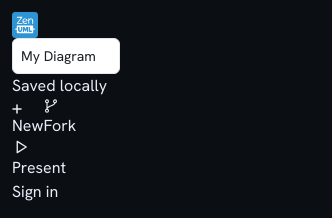
Test: AppHeader › pressing Escape reverts the title edit and does not commit
Clear the field with test id "header-title": (66, 56) [12,38,120,74]
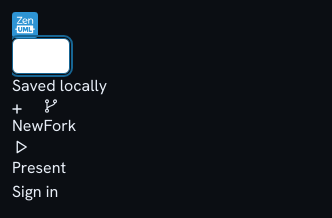
In the field with test id "header-title": (41, 56) [12,38,70,74], type "TempEscapeTitle"
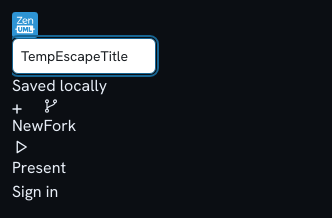
Press Escape
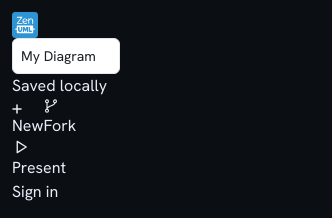
expect the field with test id "header-title" holds "My Diagram": met, box [12,38,120,74]
